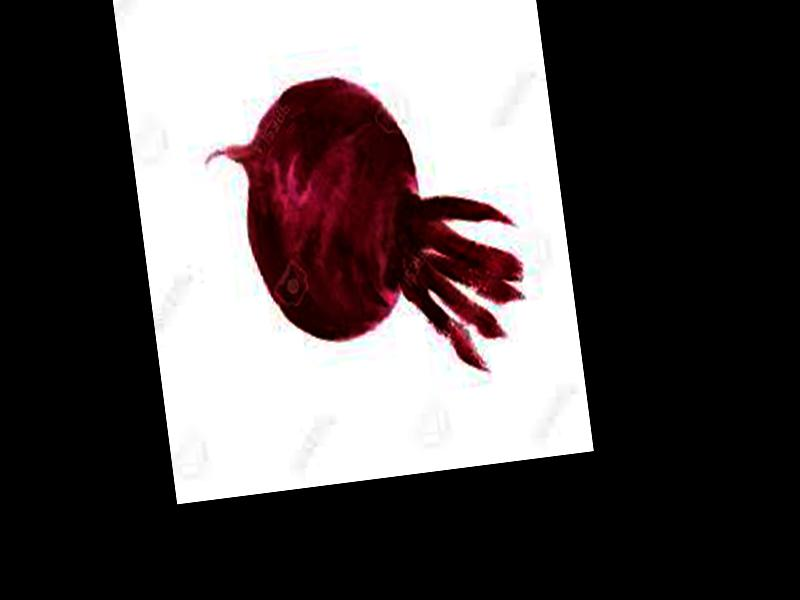Beet: (195, 54, 534, 402)
